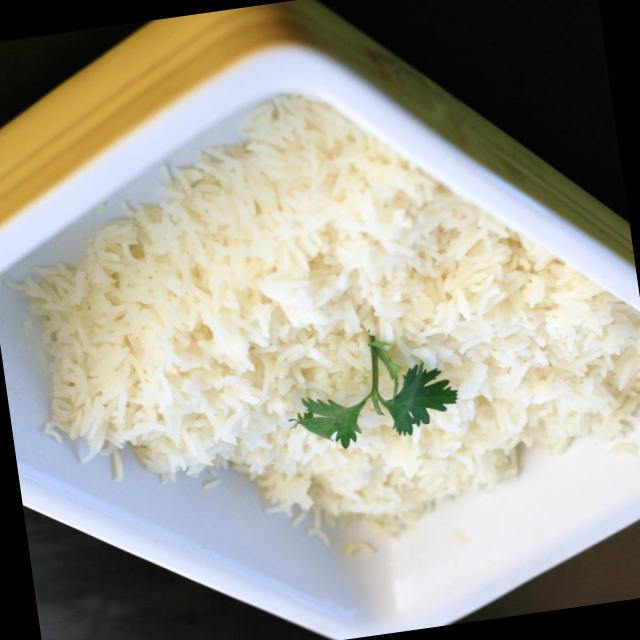rice: (26, 91, 640, 548)
